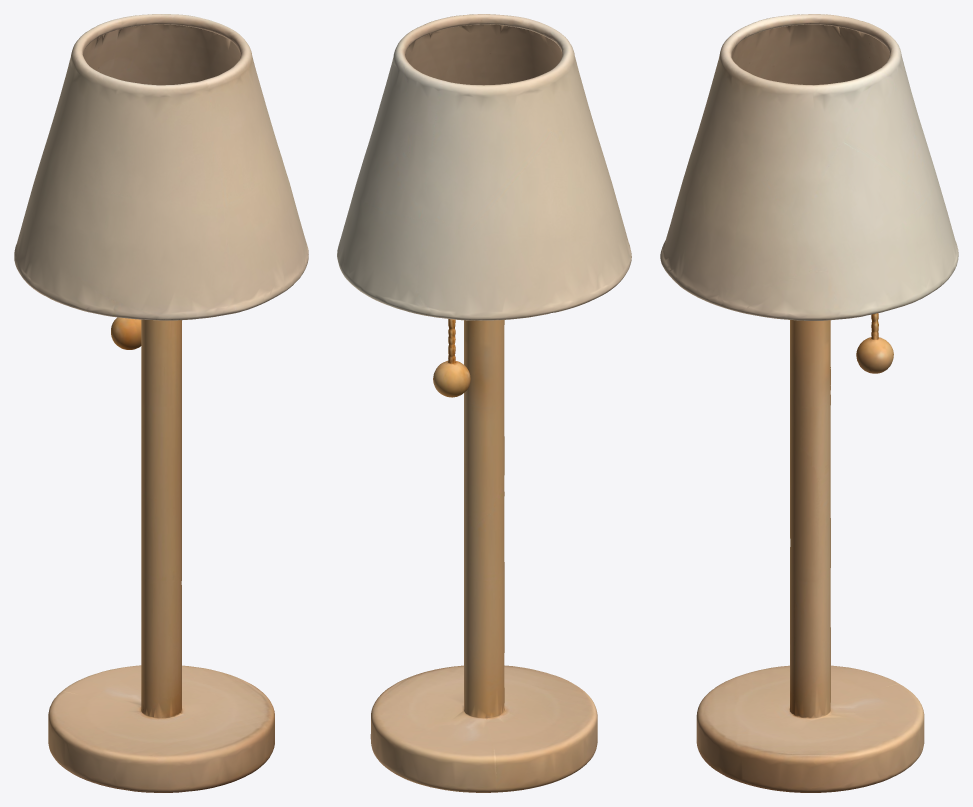
The model's file is lamp-035671606426.glb.
The picture shows the model from 3 angles, left to right: view 1: azimuth 30°, elevation 25°; view 2: azimuth 150°, elevation 25°; view 3: azimuth 270°, elevation 25°; orthographic projection.
Visible parts, largest first — view 1: tripo_node_47a6128f-cb06-4a81-943f-2aace223bb9e; view 2: tripo_node_47a6128f-cb06-4a81-943f-2aace223bb9e; view 3: tripo_node_47a6128f-cb06-4a81-943f-2aace223bb9e.
Part boxes in pixels (x1,y1,x2,y2): tripo_node_47a6128f-cb06-4a81-943f-2aace223bb9e: (14,14,308,792); tripo_node_47a6128f-cb06-4a81-943f-2aace223bb9e: (337,14,631,792); tripo_node_47a6128f-cb06-4a81-943f-2aace223bb9e: (660,14,958,792).
Size of the model in its own units: 0.3847 by 1 by 0.3874.
Materials: 1 (1 with a texture image).
